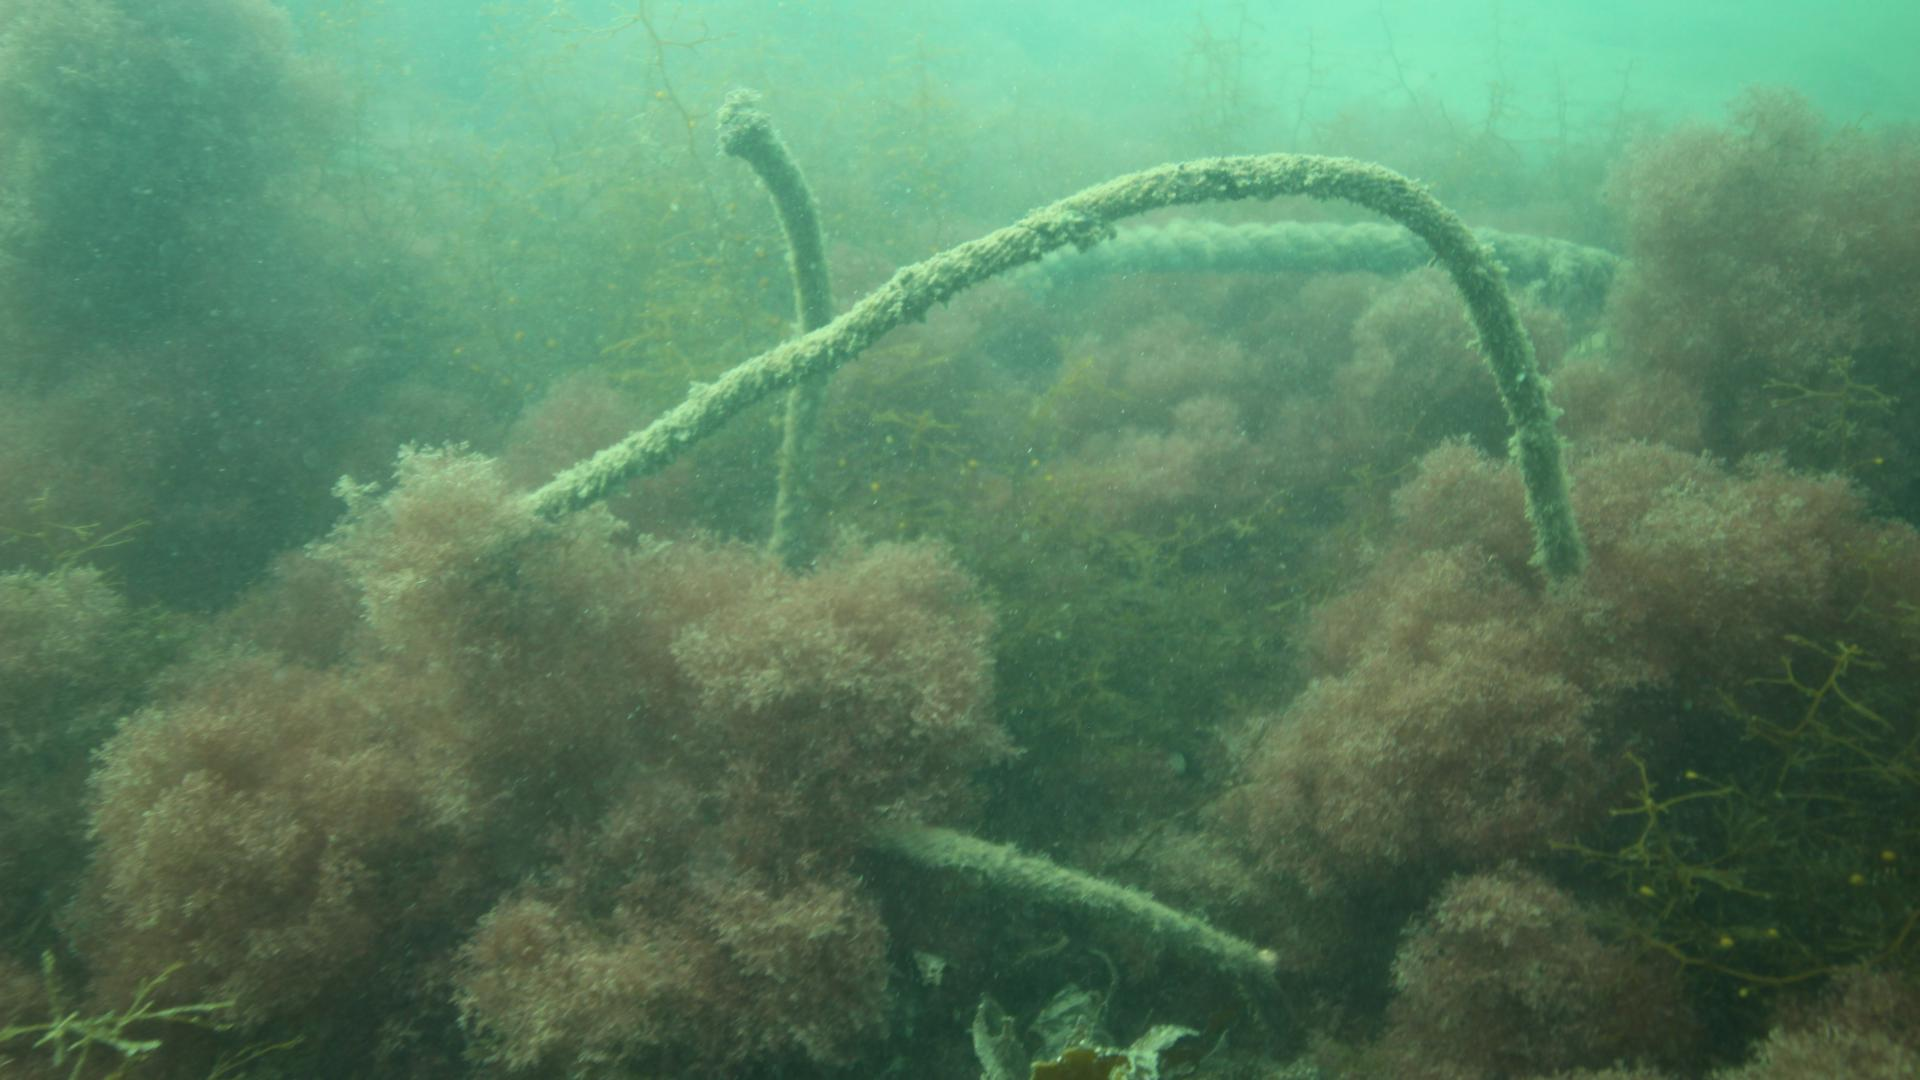rope: (517, 145, 1588, 582), (861, 818, 1279, 984), (1030, 214, 1629, 299), (731, 117, 843, 566)
